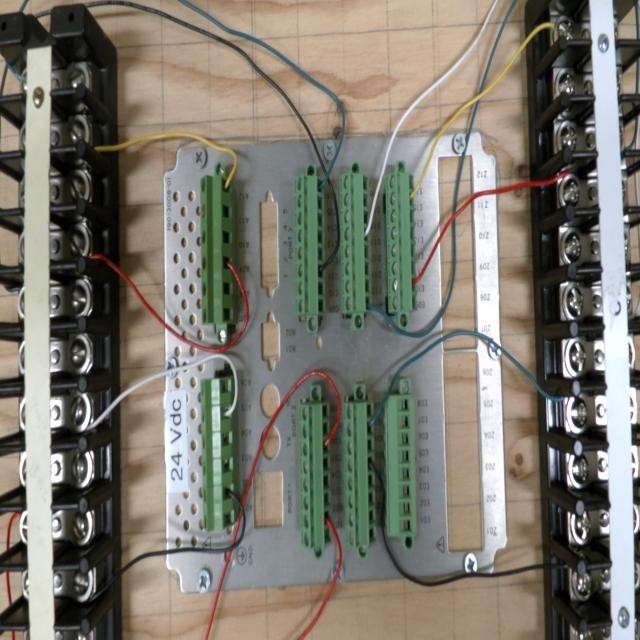Terminal_1: (201, 377, 236, 532), (201, 175, 233, 324)
Terminal_2: (343, 402, 376, 549), (299, 403, 331, 550), (294, 173, 326, 316), (385, 170, 417, 313), (340, 172, 371, 313)
